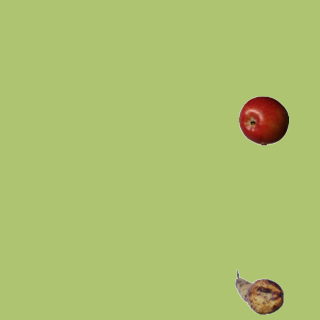Apple Braeburn: (238, 95, 288, 145)
Pear Abate: (234, 267, 284, 317)
